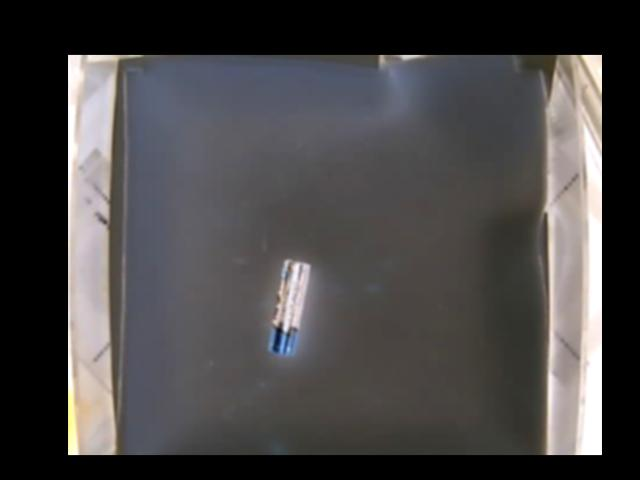Battery: (267, 260, 310, 354)
